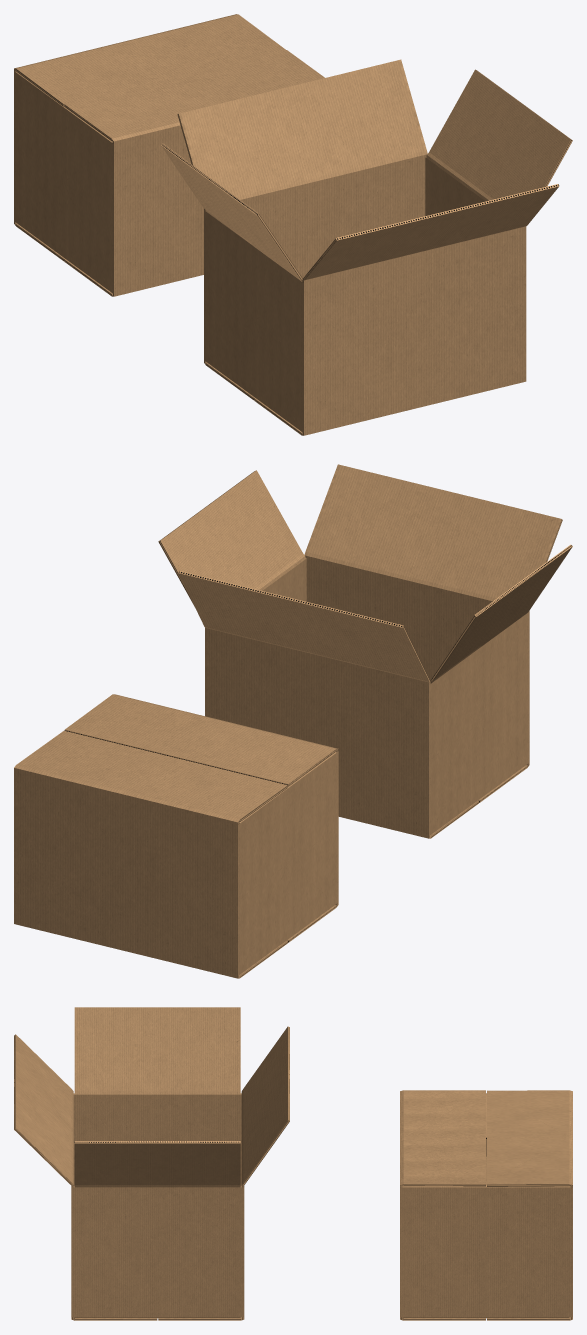
Rendered from BoxCarton.gltf.
The picture shows the model from 3 angles, top to bottom: view 1: azimuth 30°, elevation 25°; view 2: azimuth 150°, elevation 25°; view 3: azimuth 270°, elevation 25°; orthographic projection. The views are drawn at different scales.
Parts seen in each view (by area): view 1: Box_Open, Box_Closed; view 2: Box_Open, Box_Closed; view 3: Box_Open, Box_Closed.
Boxes of the visible parts, left/top/right/bottom form: Box_Open: left=161, top=59, right=572, bottom=435; Box_Closed: left=14, top=14, right=324, bottom=296; Box_Open: left=158, top=464, right=572, bottom=838; Box_Closed: left=14, top=694, right=338, bottom=978; Box_Open: left=14, top=1007, right=289, bottom=1320; Box_Closed: left=400, top=1090, right=572, bottom=1320.
Size of the model in its own units: 0.6499 by 0.4567 by 1.15.
Materials: 3 (3 with a texture image).
